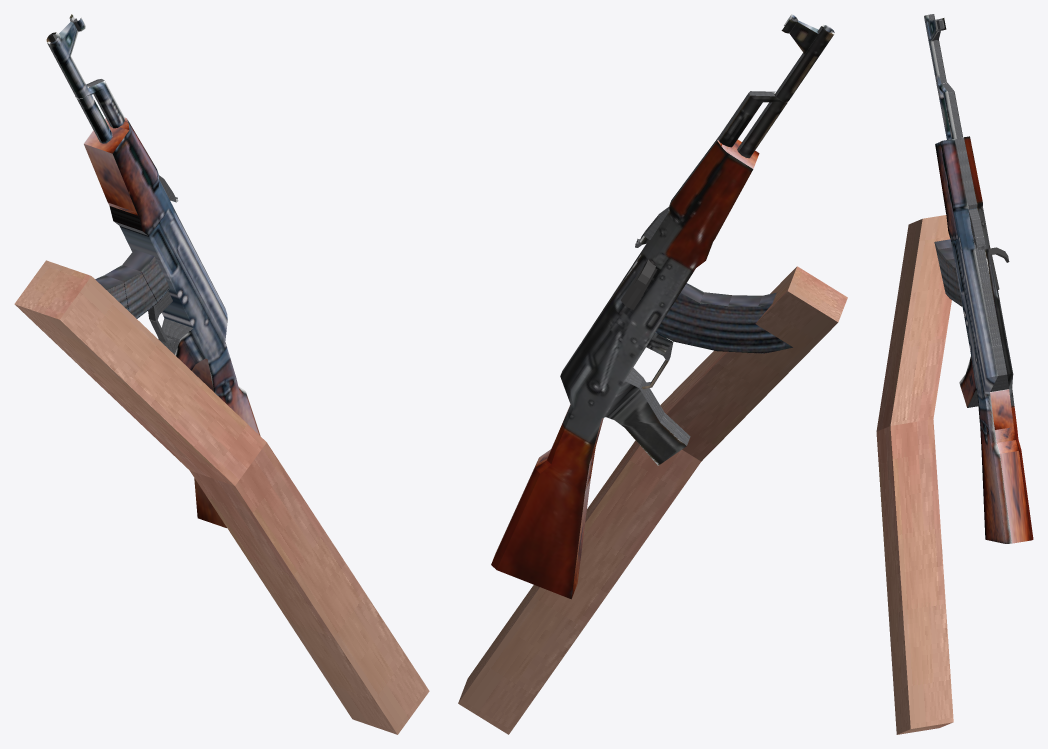
The picture shows the model from 3 angles, left to right: view 1: azimuth 30°, elevation 25°; view 2: azimuth 150°, elevation 25°; view 3: azimuth 270°, elevation 25°; orthographic projection. The views are drawn at different scales.
Parts seen in each view (by area): view 1: Cube.001_Cube.006, Cube.007_Cube.005, Cube.002_Cube.003; view 2: Cube.007_Cube.005, Cube.001_Cube.006, Cube.002_Cube.003, Plane; view 3: Cube.001_Cube.006, Cube.007_Cube.005, Cube.002_Cube.003.
Part boxes in pixels (x1,y1,x2,y2): Cube.001_Cube.006: (14,260,429,734); Cube.007_Cube.005: (46,14,260,527); Cube.002_Cube.003: (95,249,169,318); Cube.007_Cube.005: (491,14,834,599); Cube.001_Cube.006: (458,266,847,734); Cube.002_Cube.003: (656,283,792,353); Plane: (621,259,657,309); Cube.001_Cube.006: (876,215,953,734); Cube.007_Cube.005: (924,14,1033,543); Cube.002_Cube.003: (934,239,962,306).
Size of the model in its own units: 6.25 by 11.83 by 2.79.
